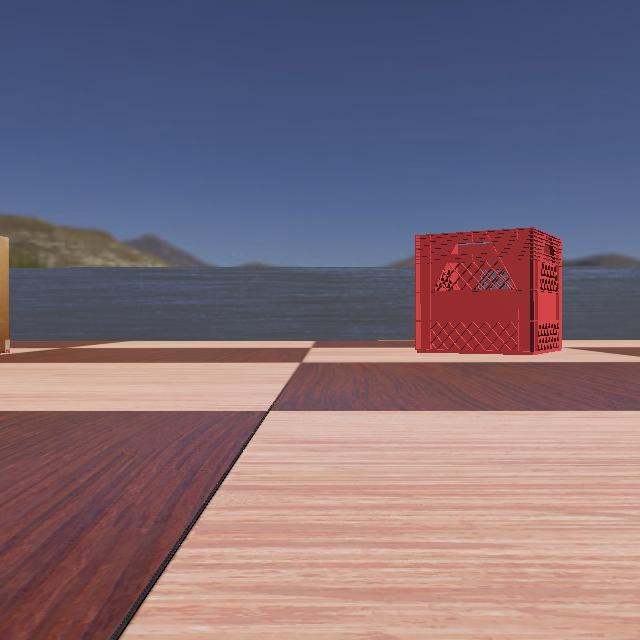cardboard-box: (0, 212, 10, 362), (0, 212, 10, 362)
plastic-crate: (402, 226, 598, 354)
